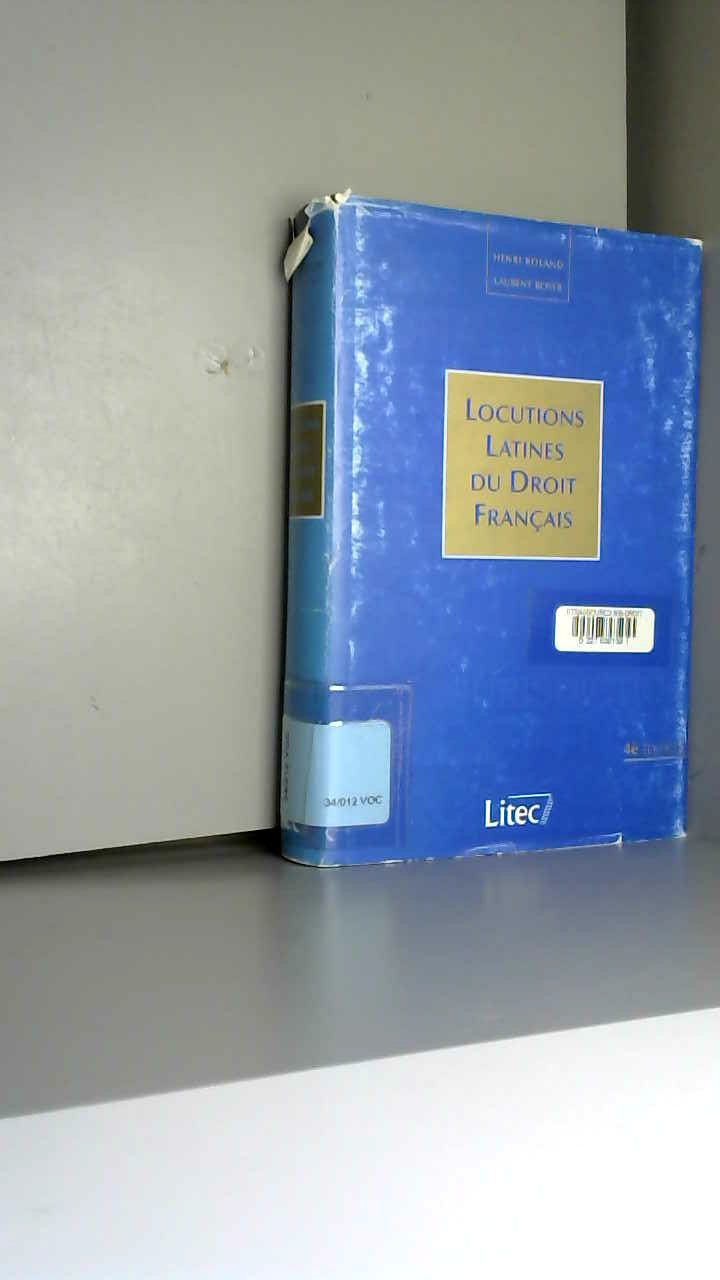book: (250, 160, 720, 881)
